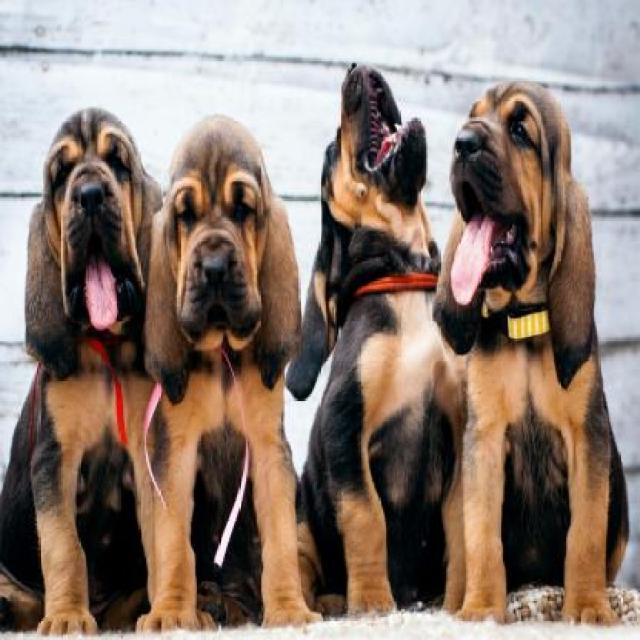animals: (441, 49, 628, 626), (288, 40, 454, 618), (148, 101, 301, 616), (12, 93, 165, 576)
